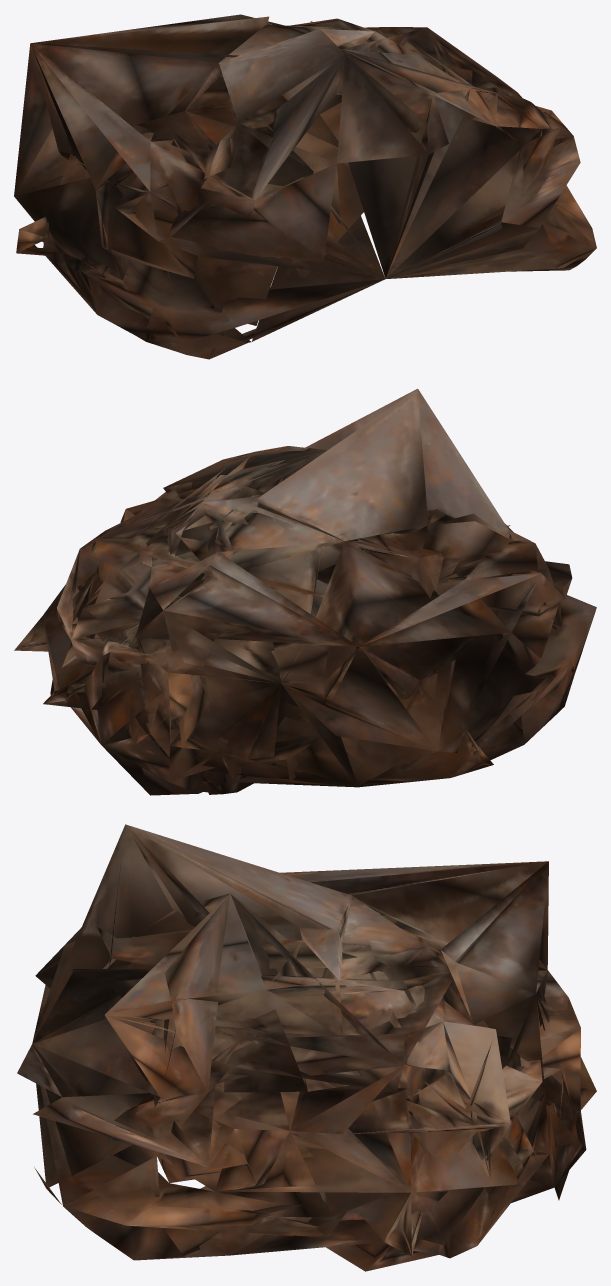
File: cv_hedgehog.glb
3 renders of one model, top to bottom at view 1: azimuth 30°, elevation 25°; view 2: azimuth 150°, elevation 25°; view 3: azimuth 270°, elevation 25°, orthographic. The views are drawn at different scales.
Parts seen in each view (by area): view 1: tripo_node_c1a91dc6-ffa2-48f1-846a-6fcf4c88e79c; view 2: tripo_node_c1a91dc6-ffa2-48f1-846a-6fcf4c88e79c; view 3: tripo_node_c1a91dc6-ffa2-48f1-846a-6fcf4c88e79c.
Boxes of the visible parts, bbox=[...] form: tripo_node_c1a91dc6-ffa2-48f1-846a-6fcf4c88e79c: bbox=[14, 14, 596, 359]; tripo_node_c1a91dc6-ffa2-48f1-846a-6fcf4c88e79c: bbox=[14, 388, 596, 795]; tripo_node_c1a91dc6-ffa2-48f1-846a-6fcf4c88e79c: bbox=[17, 824, 596, 1271].
Bounding box in the file's own units: 1 × 0.5754 × 0.9156.
Materials: 1 (1 with a texture image).
